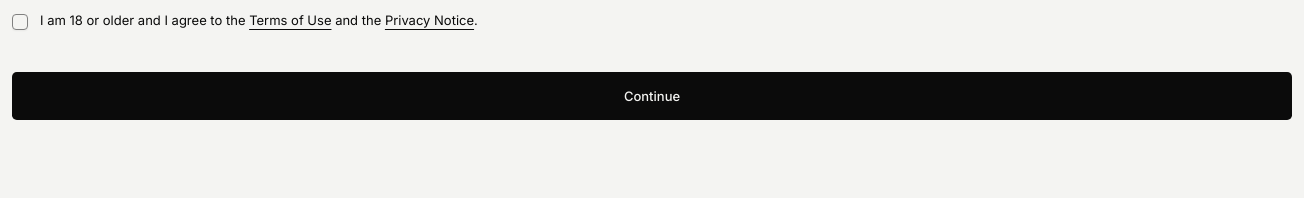
Test: AcceptForm (D-115) › shows the server's reason when the documents changed
The width and height of the screenshot is (1304, 198).
Click the checkbox: coordinates (20, 22) [12, 14, 28, 30]
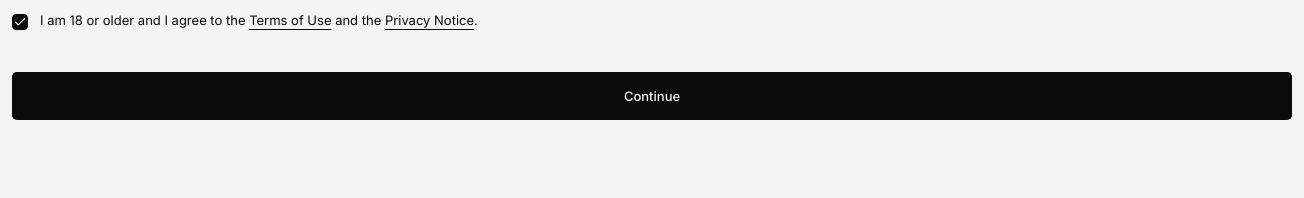
Click the button "Continue": coordinates (652, 96) [12, 72, 1292, 120]
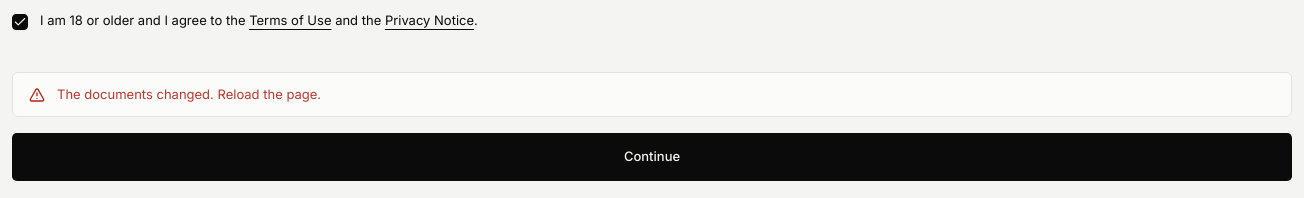
Expected: the text "The documents changed. Reload the page." is shown, [57, 86, 321, 102]
